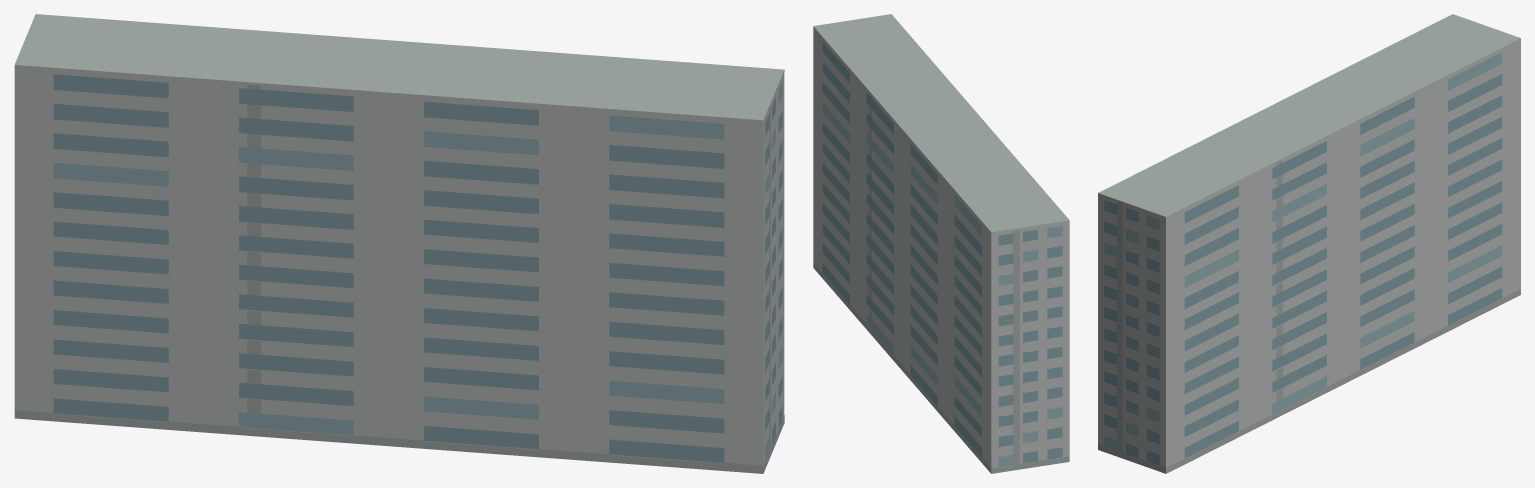
The model's file is residential-99a31510-7926-4ae6-9c9e-305554857f5b.glb.
3 renders of one model, left to right at view 1: azimuth 30°, elevation 25°; view 2: azimuth 150°, elevation 25°; view 3: azimuth 270°, elevation 25°, orthographic. The views are drawn at different scales.
Parts seen in each view (by area): view 1: residential-99a31510-7926-4ae6-9c9e-305554857f5b.tmp; view 2: residential-99a31510-7926-4ae6-9c9e-305554857f5b.tmp; view 3: residential-99a31510-7926-4ae6-9c9e-305554857f5b.tmp.
Part boxes in pixels (<box>): residential-99a31510-7926-4ae6-9c9e-305554857f5b.tmp: <box>14,14,784,473</box>; residential-99a31510-7926-4ae6-9c9e-305554857f5b.tmp: <box>813,14,1069,473</box>; residential-99a31510-7926-4ae6-9c9e-305554857f5b.tmp: <box>1098,14,1520,473</box>.
Size of the model in its own units: 57.63 by 34 by 50.7.
